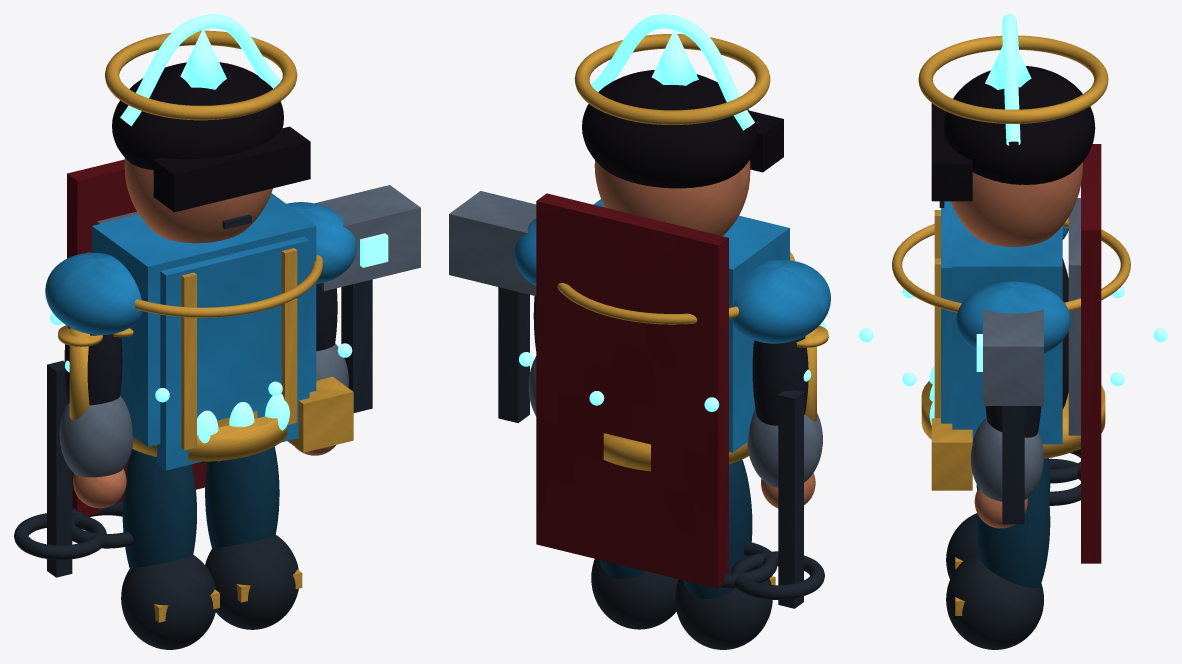
File: Transcendence.glb
The picture shows the model from 3 angles, left to right: view 1: azimuth 30°, elevation 25°; view 2: azimuth 150°, elevation 25°; view 3: azimuth 270°, elevation 25°; orthographic projection. The views are drawn at different scales.
Parts seen in each view (by area): view 1: MerchantVest, ChestPlate, Hair, HairFringe, Leg, Boot, Boot.001, Leg.001, Shoulder, HammerHead, CrownRing, Head (+21 smaller); view 2: Cape, Hair, HammerHead, Shoulder, Head, ChestPlate, CrownRing, CartHandle, Boot, Boot.001, HammerHandle, Arm (+12 smaller); view 3: Hair, ChestPlate, Cape, Head, Boot.001, CrownRing, HammerHead, Leg.001, Shoulder.001, Gauntlet.001, BackArmor, CoinPouch (+14 smaller).
Boxes of the visible parts, x1,y1,x2,y2 form: MerchantVest: (157,236,309,470); ChestPlate: (92,193,316,446); Hair: (112,62,283,170); HairFringe: (153,126,310,212); Leg: (122,449,196,568); Boot: (121,555,216,649); Boot.001: (205,535,298,629); Leg.001: (205,446,279,548); Shoulder: (45,252,142,335); HammerHead: (315,185,420,291); CrownRing: (105,30,297,120); Head: (124,157,272,243); Cape: (536,193,728,588); Hair: (582,70,756,188); HammerHead: (449,191,536,295); Shoulder: (731,260,830,343); Head: (594,160,750,235); ChestPlate: (594,199,789,452); CrownRing: (574,34,770,124); CartHandle: (778,390,803,608); Boot: (675,569,772,649); Boot.001: (591,559,678,629); HammerHandle: (498,287,529,422); Arm: (752,336,808,425); Hair: (944,66,1095,184); ChestPlate: (952,206,1062,444); Cape: (1081,144,1101,563); Head: (951,162,1082,246); Boot.001: (946,552,1043,649); CrownRing: (918,35,1108,123); HammerHead: (983,309,1043,405); Leg.001: (976,468,1050,588); Shoulder.001: (956,281,1070,353); Gauntlet.001: (971,417,1043,501); BackArmor: (1068,198,1080,435); CoinPouch: (931,418,972,490).
Bounding box in the file's own units: 2.05 × 3.27 × 1.51.
Materials: 12 (9 with a texture image).
